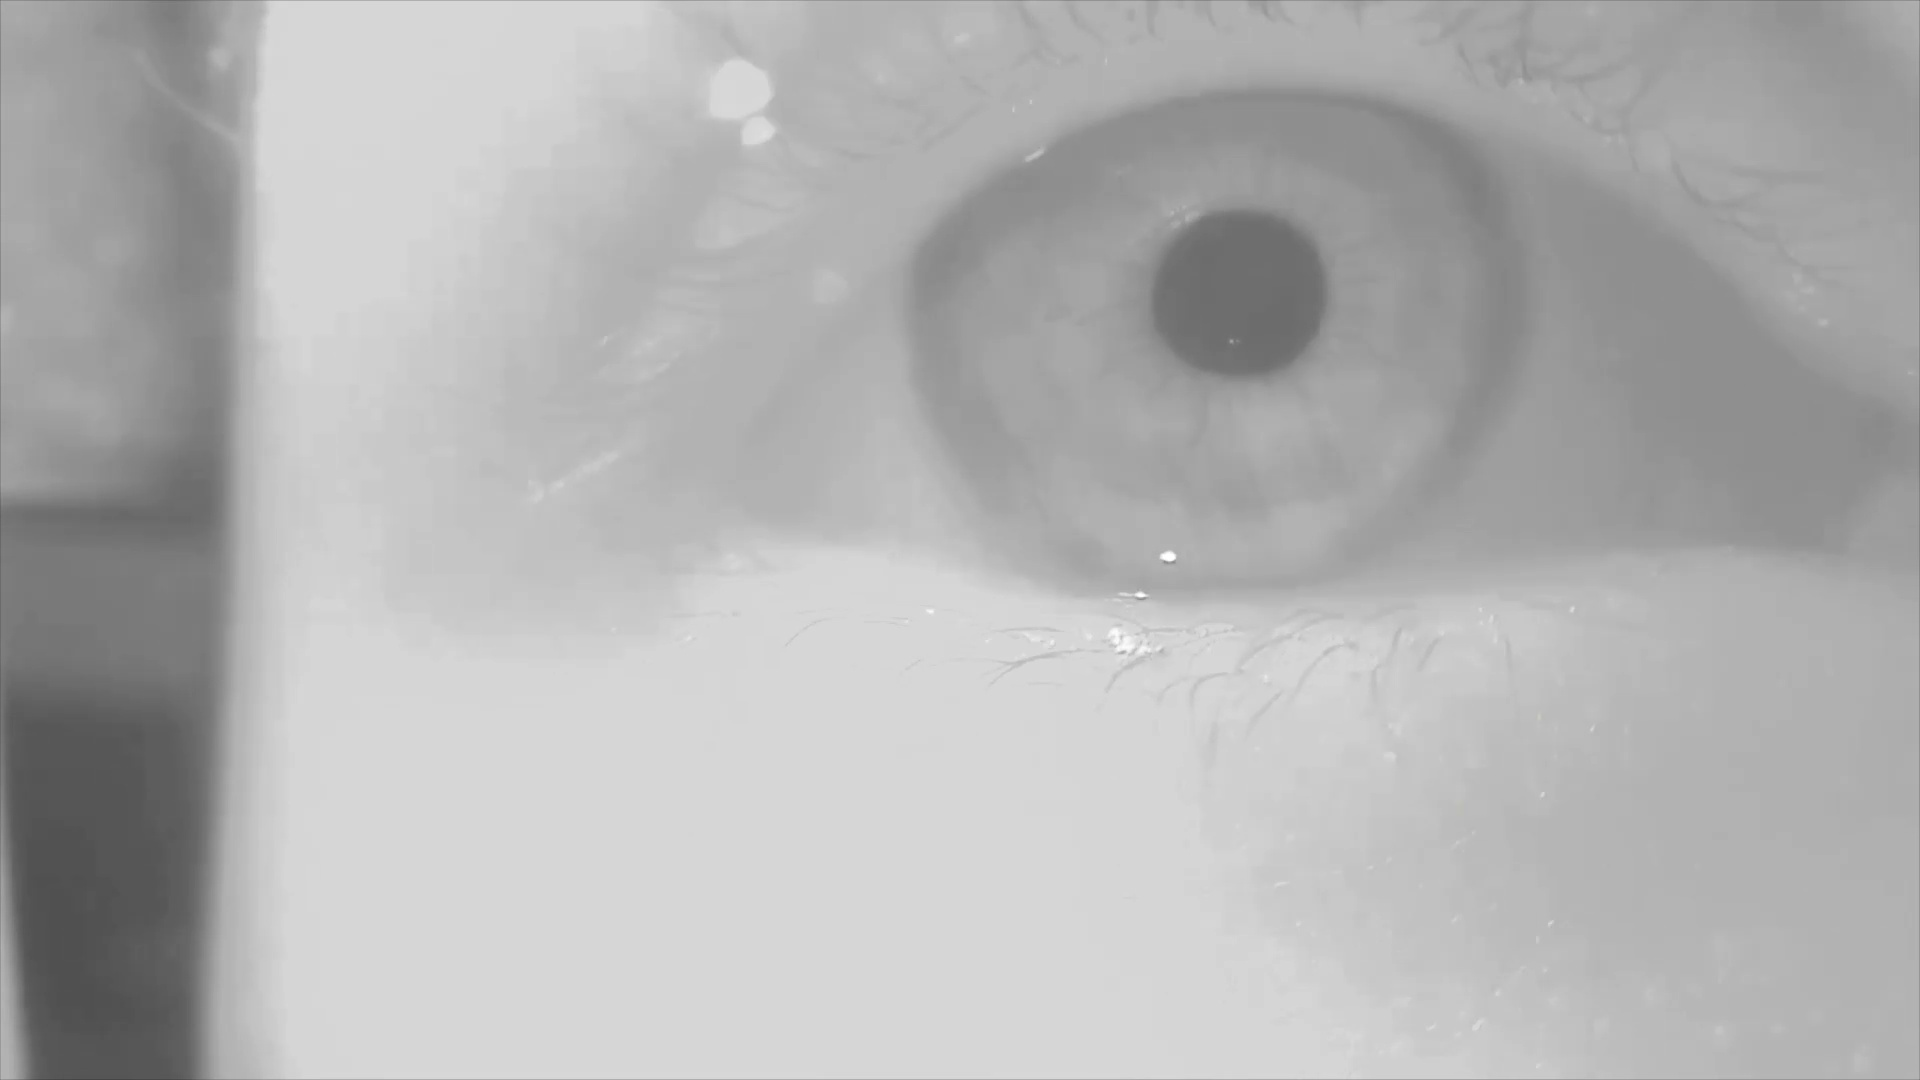pupil: (1143, 213, 1334, 383)
